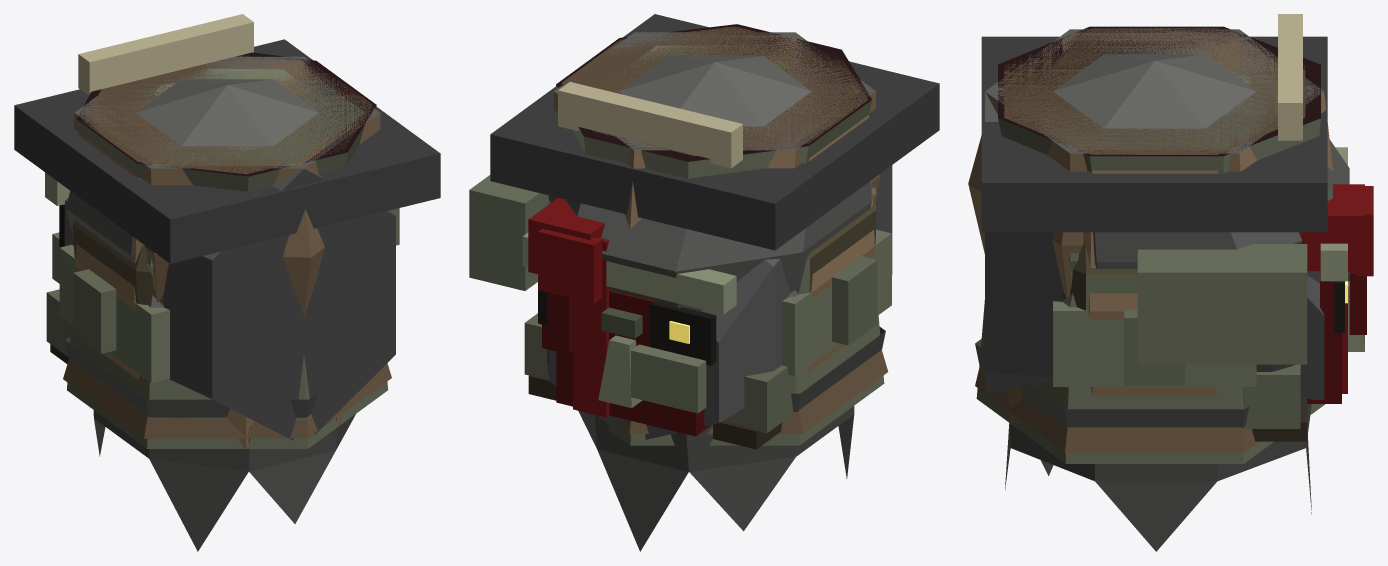
Rendered from child.glb.
3 views of the same model, side by side, from view 1: azimuth 30°, elevation 25°; view 2: azimuth 150°, elevation 25°; view 3: azimuth 270°, elevation 25° (orthographic). The views are drawn at different scales.
Visible parts, largest first — view 1: hips, footR, shinR, headJaw, torso, uArmDeltR, uArmR, handR, head, neck, fArmR, thighR; view 2: hips, torso, headJaw, handR, head, footR, uArmDeltR, uArmR, shinR, neck, torsoBelly, fArmR (+1 smaller); view 3: hips, handR, torso, headJaw, shinR, footR, uArmR, uArmDeltR, neck, head, fArmR, torsoBelly (+2 smaller).
Part boxes in pixels (box(x1,y1,x2,y2)): hips: box(14, 39, 440, 449); footR: box(65, 169, 395, 440); shinR: box(63, 59, 391, 438); headJaw: box(76, 14, 376, 191); torso: box(52, 83, 355, 551); uArmDeltR: box(136, 79, 318, 146); uArmR: box(65, 56, 380, 417); handR: box(46, 68, 399, 382); head: box(45, 172, 163, 353); neck: box(67, 325, 387, 448); fArmR: box(109, 73, 364, 276); thighR: box(74, 113, 380, 290); hips: box(490, 14, 939, 372); torso: box(538, 54, 871, 551); headJaw: box(556, 24, 872, 417); handR: box(469, 44, 891, 449); head: box(522, 193, 877, 408); footR: box(547, 165, 892, 439); uArmDeltR: box(618, 56, 811, 296); uArmR: box(554, 32, 885, 411); shinR: box(617, 35, 888, 434); neck: box(586, 315, 884, 445); torsoBelly: box(528, 197, 642, 338); fArmR: box(556, 38, 876, 436); hips: box(981, 28, 1327, 424); handR: box(1032, 45, 1307, 441); torso: box(1005, 70, 1373, 551); headJaw: box(998, 14, 1347, 393); shinR: box(968, 32, 1313, 452); footR: box(985, 91, 1324, 399); uArmR: box(975, 29, 1323, 428); uArmDeltR: box(1053, 54, 1255, 306); neck: box(976, 300, 1325, 463); head: box(1063, 147, 1364, 385); fArmR: box(1003, 54, 1341, 403); torsoBelly: box(1299, 184, 1364, 281).
Size of the model in its own units: 1.15 by 1.5 by 1.2.
